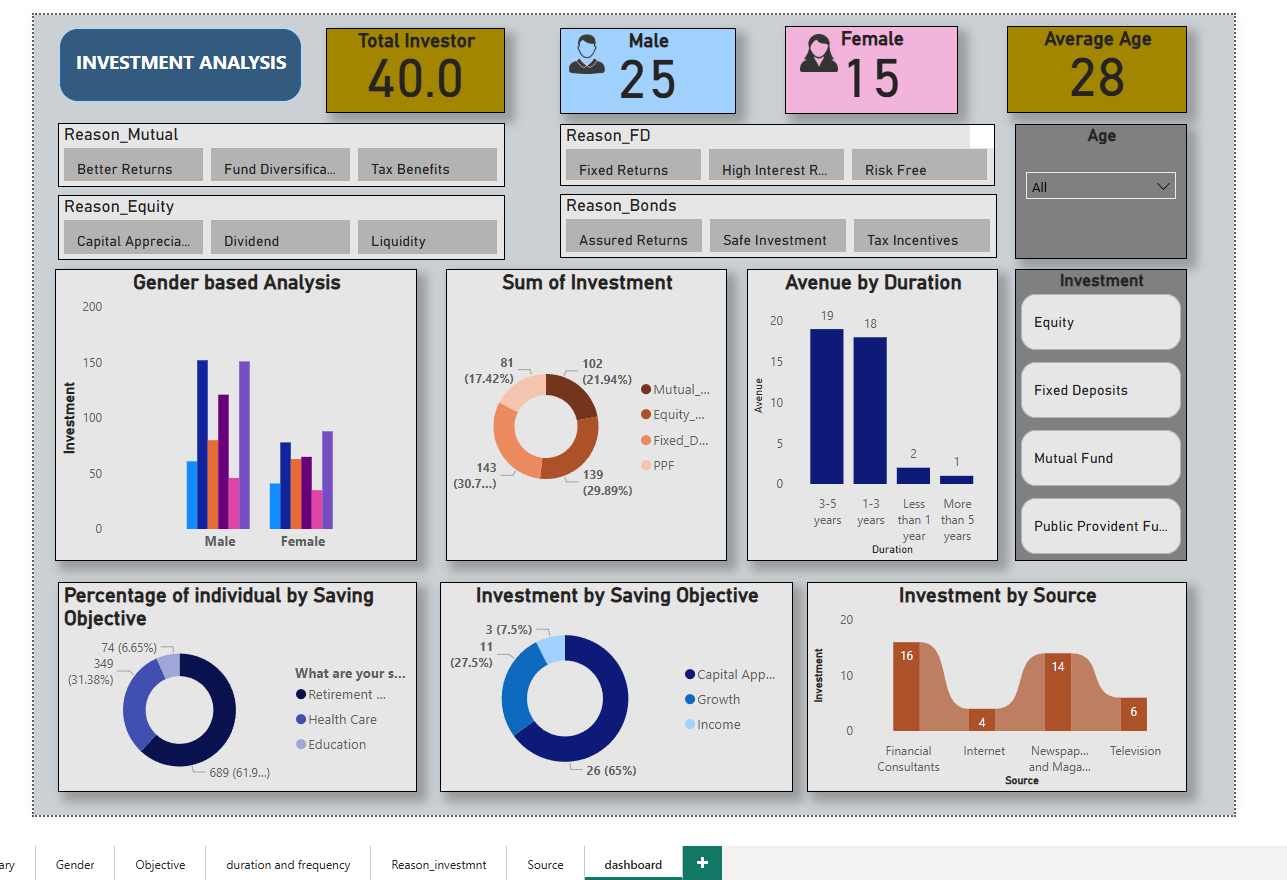

This screenshot's page, from the dashboard's own definition file:
{"tool":"powerbi","page":{"name":"dashboard","canvas":[1200,800],"ordinal":6},"visuals":[{"type":"shape","box":[26,14,241,72],"z":0},{"type":"textbox","box":[37,29,255,57],"z":1000},{"type":"card","title":"Average Age","fields":{"Values":["Measures (2).Average age"]},"box":[973,11,180,87],"z":2000},{"type":"card","title":"Total Investor","fields":{"Values":["Measures (2).total_investor"]},"box":[292,13,179,85],"z":3000},{"type":"card","title":"Male","fields":{"Values":["Measures (2).Male"]},"box":[526,13,176,86],"z":4000},{"type":"card","title":"Female","fields":{"Values":["Measures (2).Female"]},"box":[751,11,173,88],"z":5000},{"type":"image","box":[499.5,14.1,107.5,49.8],"z":6000},{"type":"image","box":[731.2,14.1,107.5,48.1],"z":7000},{"type":"donutChart","title":"Percentage of individual by Saving Objective","fields":{"Category":["Data_set 2.What are your savings objectives?"],"Y":["Sum(Data_set 2.age)"]},"box":[24,567,359,210],"z":8000},{"type":"clusteredColumnChart","title":"Gender based Analysis","fields":{"Category":["Data_set 2.gender"],"Y":["Sum(Data_set 2.Mutual_Funds)","Sum(Data_set 2.Debentures)","Sum(Data_set 2.Fixed_Deposits)","Sum(Data_set 2.Government_Bonds)","Sum(Data_set 2.PPF)","Sum(Data_set 2.Gold)"]},"box":[21,254,362,292],"z":9000},{"type":"slicer","title":"Age","fields":{"Values":["Data_set 2.age"]},"box":[981,109,172,135],"z":10000},{"type":"donutChart","title":"Investment by Saving  Objective","fields":{"Y":["CountNonNull(Data_set 2.Avenue)"],"Category":["Data_set 2.Objective"]},"box":[406,567,353,210],"z":11000},{"type":"donutChart","title":"Sum of Investment","fields":{"Y":["Sum(Data_set 2.Mutual_Funds)","Sum(Data_set 2.Equity_Market)","Sum(Data_set 2.Fixed_Deposits)","Sum(Data_set 2.PPF)"]},"box":[412,254,281,292],"z":12000},{"type":"advancedSlicerVisual","title":"Investment","fields":{"Values":["Data_set 2.Avenue"]},"box":[981,254,172,292],"z":13000},{"type":"columnChart","title":"Avenue by Duration","fields":{"Category":["Data_set 2.Duration"],"Y":["CountNonNull(Data_set 2.Avenue)"]},"box":[713,254,251,292],"z":14000},{"type":"ribbonChart","title":"Investment by Source","fields":{"Category":["Data_set 2.Source"],"Y":["CountNonNull(Data_set 2.Avenue)"]},"box":[773,567,380,210],"z":15000},{"type":"advancedSlicerVisual","fields":{"Values":["Data_set 2.Reason_Mutual"]},"box":[24,108,447,64],"z":16000},{"type":"advancedSlicerVisual","fields":{"Values":["Data_set 2.Reason_FD"]},"box":[526,109,435,62],"z":17000},{"type":"advancedSlicerVisual","fields":{"Values":["Data_set 2.Reason_Equity"]},"box":[24,180,447,65],"z":18000},{"type":"advancedSlicerVisual","fields":{"Values":["Data_set 2.Reason_Bonds"]},"box":[526,179,437,64],"z":19000}]}

Visuals, with their boxes on the page's 1200x800 design canvas (x1, y1, x2, y2). These are canvas units, not pixel positions in the 1287x880 screenshot, which may show the page scaled, cropped or inside an application window:
shape: 26/14/267/86
textbox: 37/29/292/86
"Average Age" card: 973/11/1153/98
"Total Investor" card: 292/13/471/98
"Male" card: 526/13/702/99
"Female" card: 751/11/924/99
image: 500/14/607/64
image: 731/14/839/62
"Percentage of individual by Saving Objective" donutChart: 24/567/383/777
"Gender based Analysis" clusteredColumnChart: 21/254/383/546
"Age" slicer: 981/109/1153/244
"Investment by Saving  Objective" donutChart: 406/567/759/777
"Sum of Investment" donutChart: 412/254/693/546
"Investment" advancedSlicerVisual: 981/254/1153/546
"Avenue by Duration" columnChart: 713/254/964/546
"Investment by Source" ribbonChart: 773/567/1153/777
advancedSlicerVisual - Data_set 2.Reason_Mutual: 24/108/471/172
advancedSlicerVisual - Data_set 2.Reason_FD: 526/109/961/171
advancedSlicerVisual - Data_set 2.Reason_Equity: 24/180/471/245
advancedSlicerVisual - Data_set 2.Reason_Bonds: 526/179/963/243
